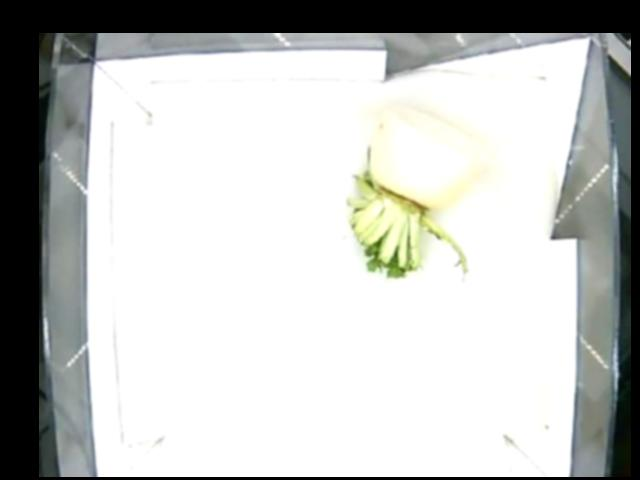Mooli: (349, 103, 481, 281)
